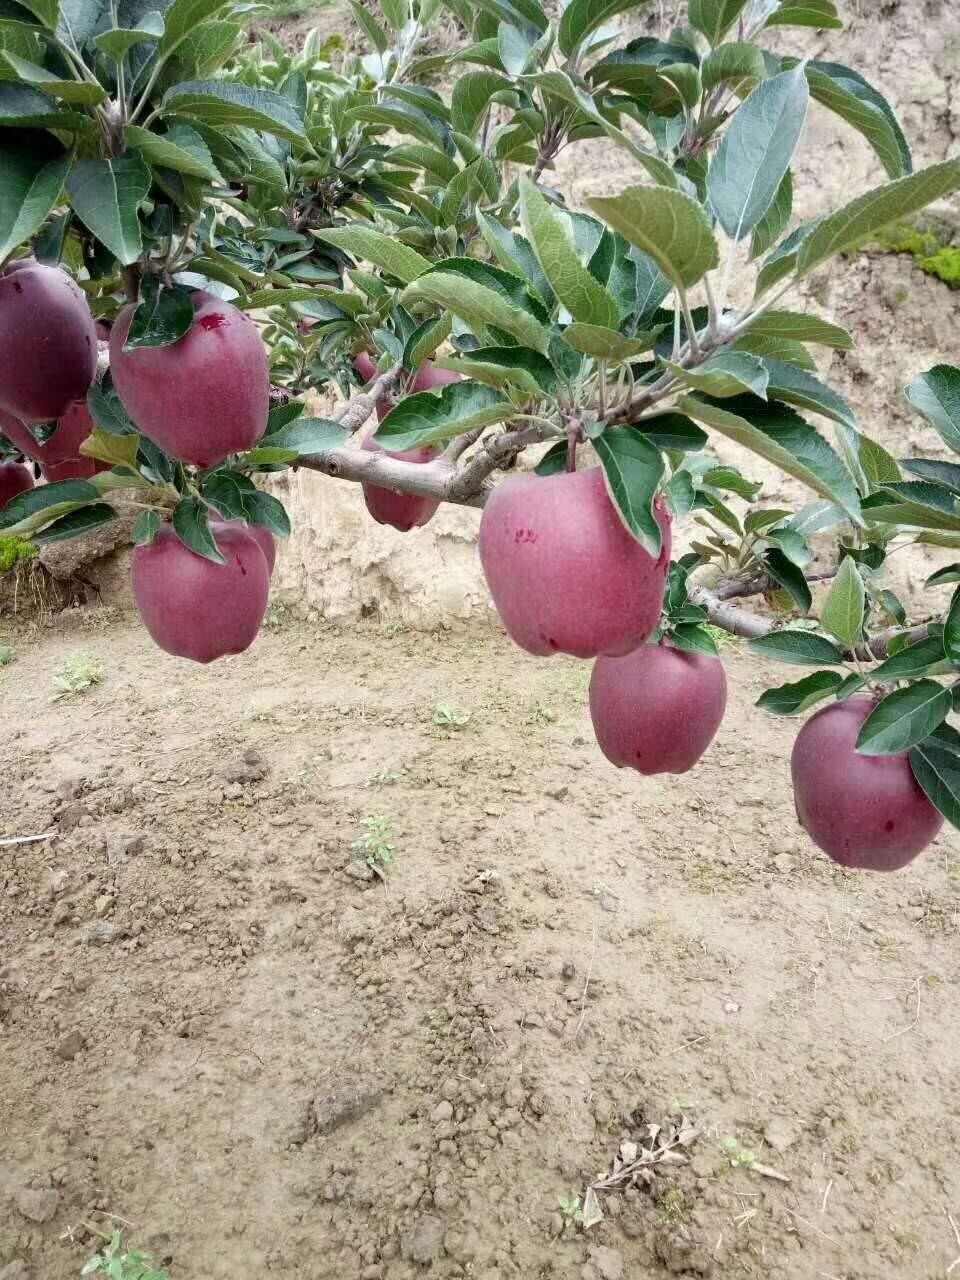apple: (486, 462, 667, 660), (790, 694, 941, 870), (112, 294, 268, 459), (128, 513, 270, 661), (585, 630, 726, 775), (1, 254, 97, 419), (362, 428, 440, 529)
